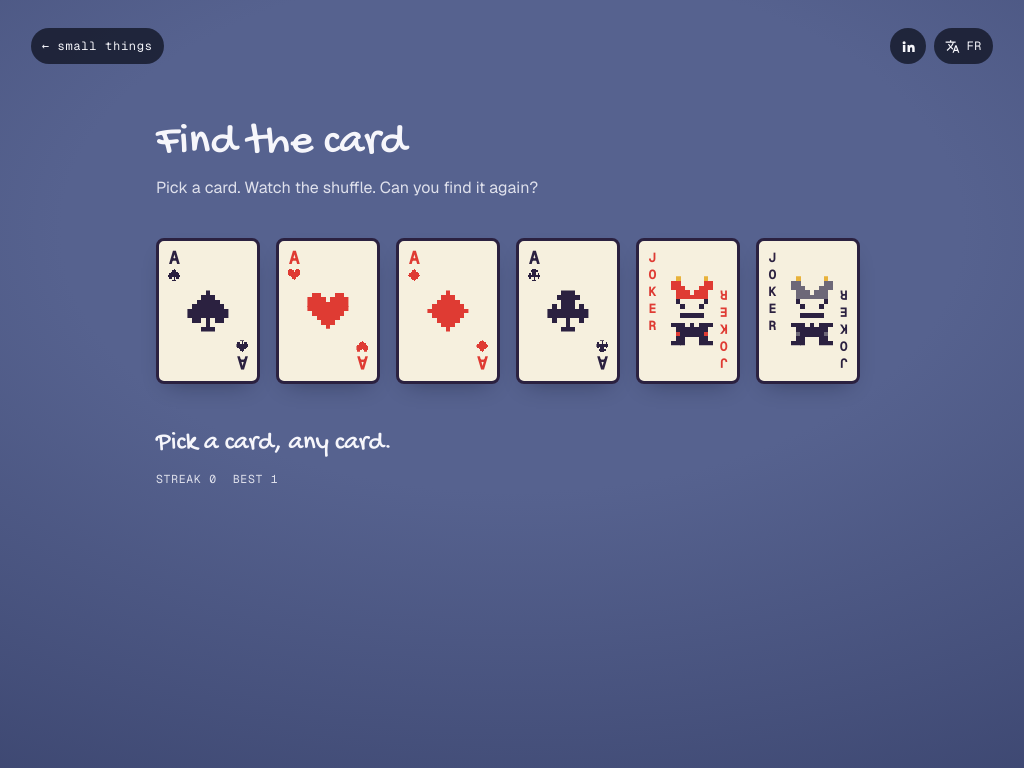
Test: Find the card › shows where the card was after a miss and resets the streak
What coordinates should you click on to do the following:
click the button named "Ace of spades"
I would click on:
 (208, 311)
Its box is [156, 238, 260, 384].
Wait 10000 ms
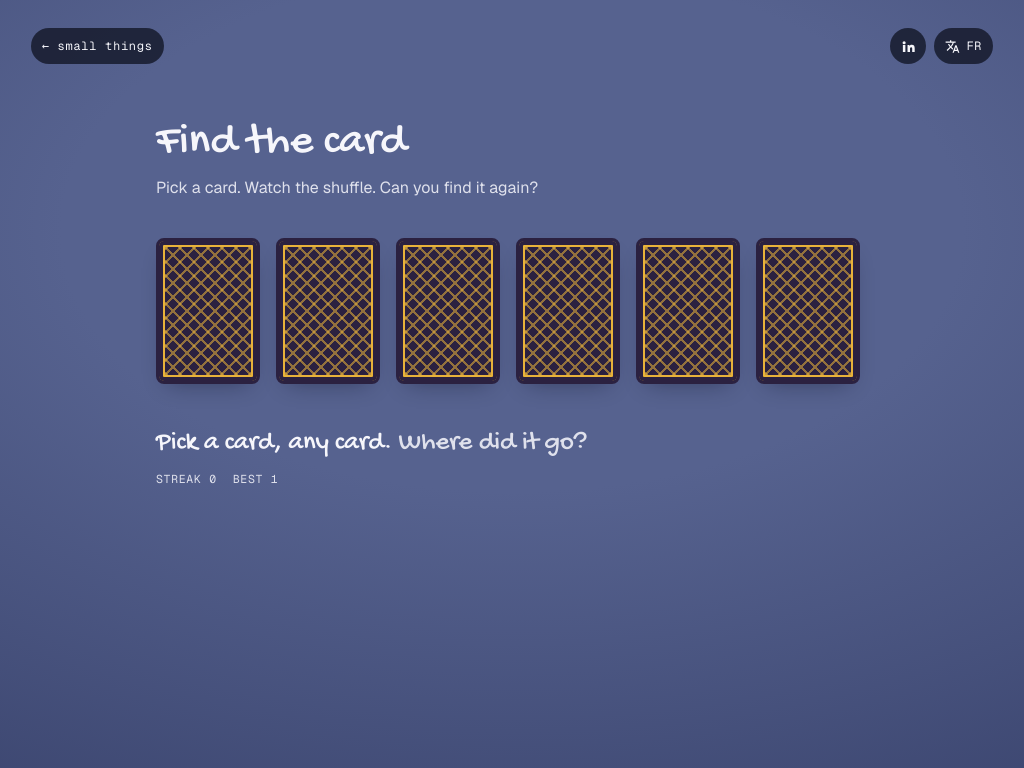
What coordinates should you click on to do the following:
click the 4th button "A A"
I would click on:
 (808, 311)
Its box is [756, 238, 860, 384].
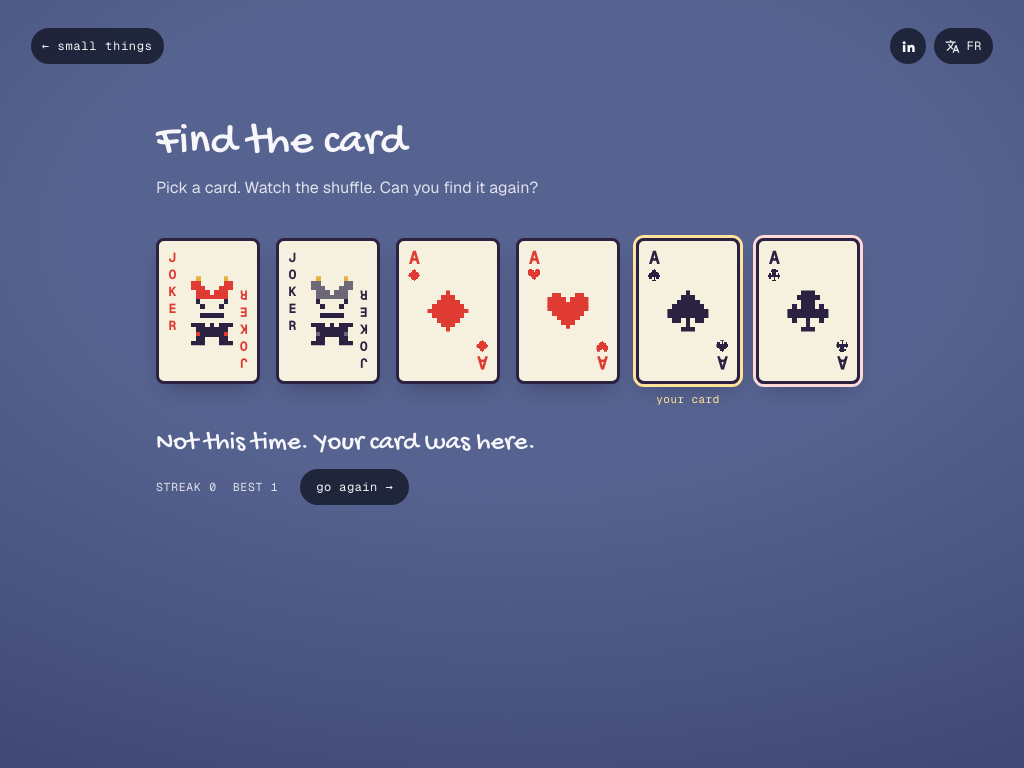
expect the text "streak 0" is shown: met, box [156, 477, 217, 497]
expect the text "Not this time. Your card was here." is shown: met, box [156, 426, 536, 458]
expect the button with aria-label "Ace of spades" is shown: met, box [636, 238, 740, 384]
